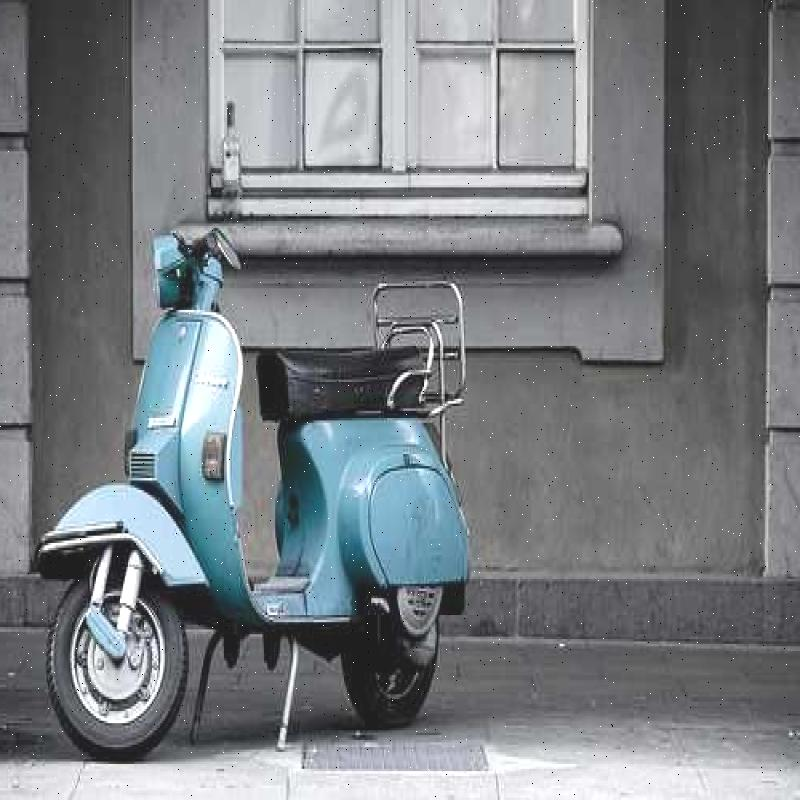bike: (48, 212, 506, 744)
